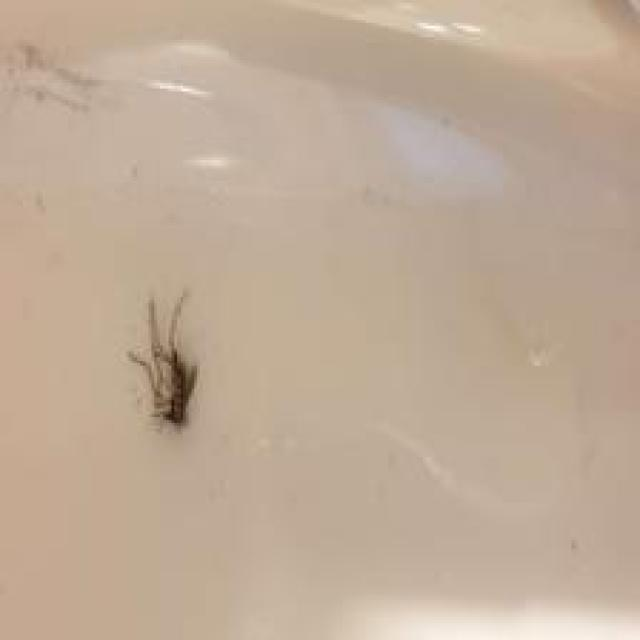Aedes albopictus: (126, 288, 200, 428)
